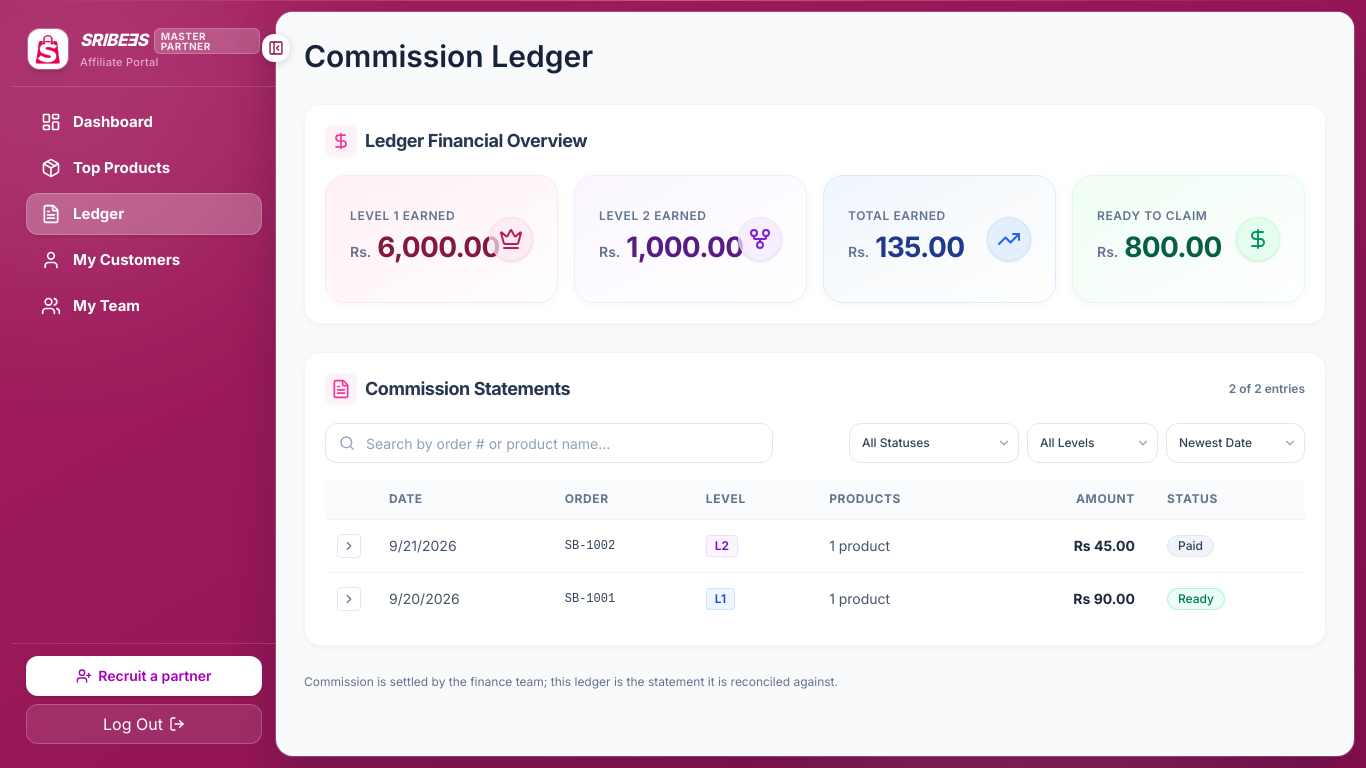
Test: Ledger Page › expands row details to reveal line item breakdown
This screenshot has width=1366, height=768.
Check: the text "SB-1001" is shown, box [549,572,690,625]
// c-2 is newest (2026-09-21)
Click the button named "Expand details" next to "9/21/2026": click(349, 546) [337,534,361,558]
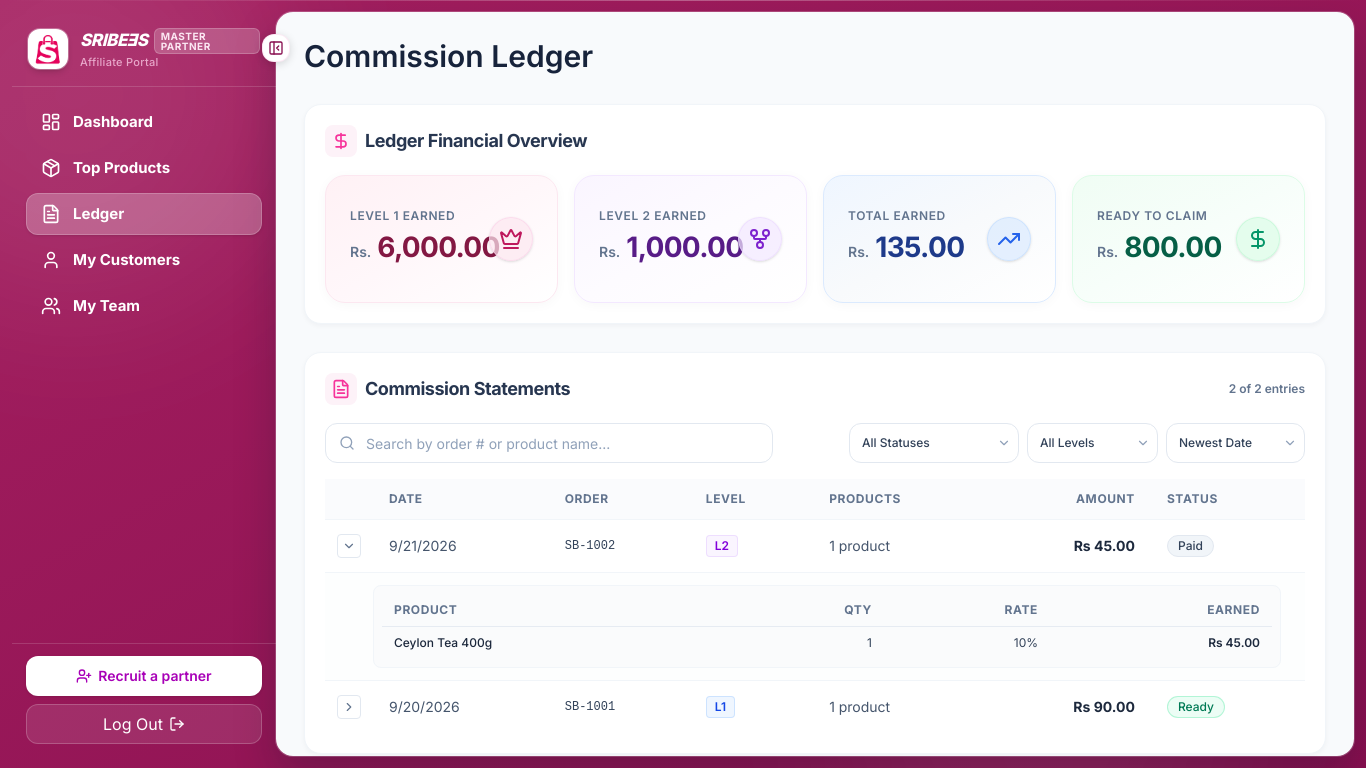
Check: the text "Ceylon Tea 400g" is shown, box [382,626,735,659]
// c-1 is older (2026-09-20)
Click the button named "Expand details": click(349, 707) [337,695,361,719]
(page scrolled)
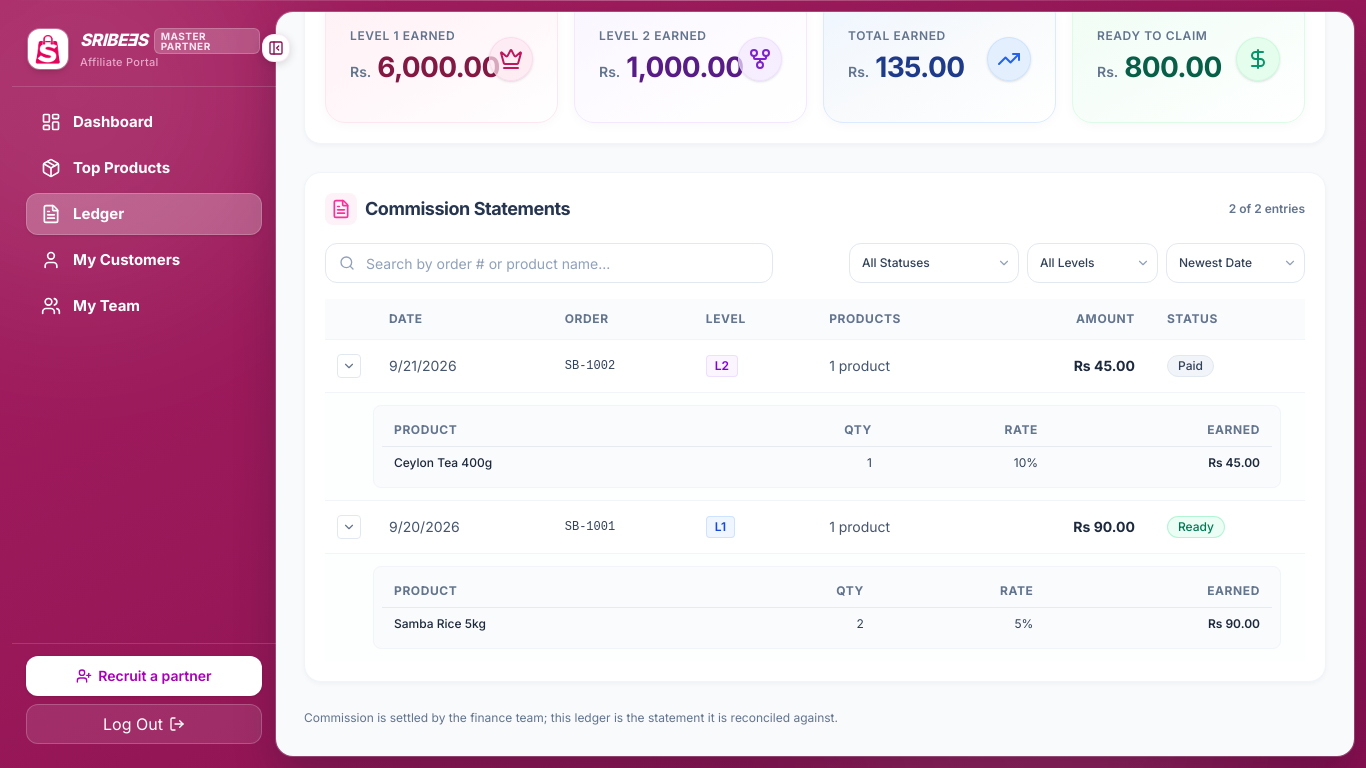
Check: the text "Samba Rice 5kg" is shown, box [382,608,724,640]
